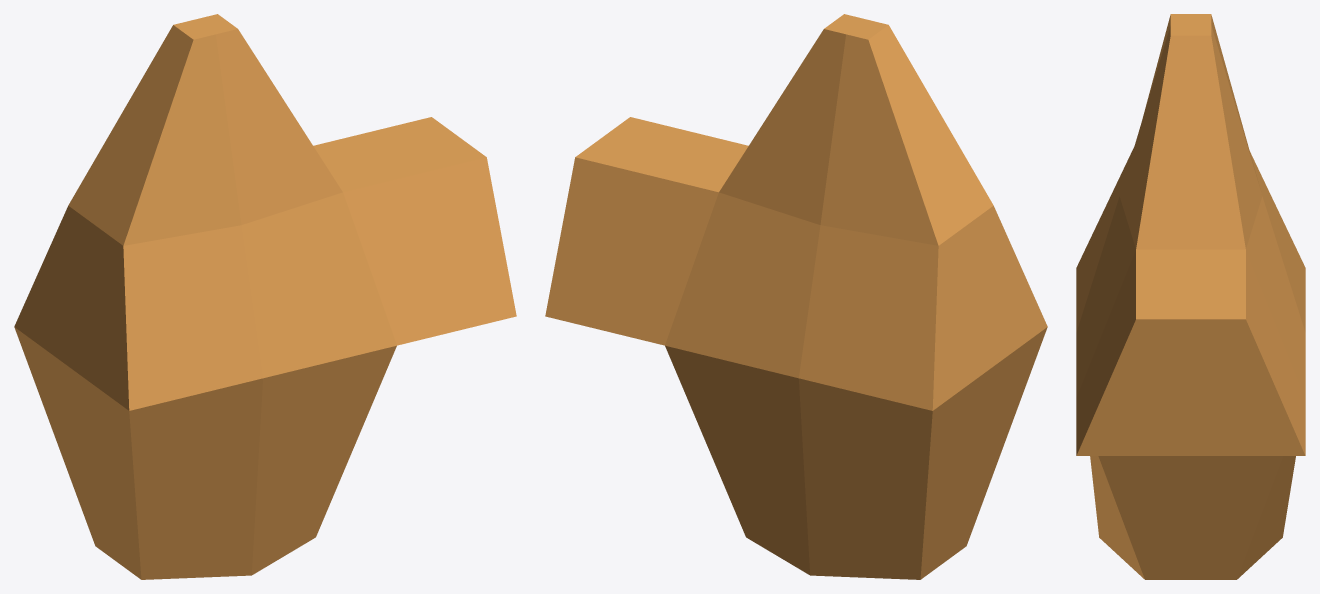
File: fence_one_sided.glb
The picture shows the model from 3 angles, left to right: view 1: azimuth 30°, elevation 25°; view 2: azimuth 150°, elevation 25°; view 3: azimuth 270°, elevation 25°; orthographic projection.
Parts seen in each view (by area): view 1: FenceOneSided.002; view 2: FenceOneSided.002; view 3: FenceOneSided.002.
Part boxes in pixels (x1=…): FenceOneSided.002: x1=14, y1=14, x2=516, y2=579; FenceOneSided.002: x1=545, y1=14, x2=1047, y2=579; FenceOneSided.002: x1=1076, y1=14, x2=1305, y2=579.
Bounding box in the file's own units: 0.7968 × 1.01 × 0.4097.
